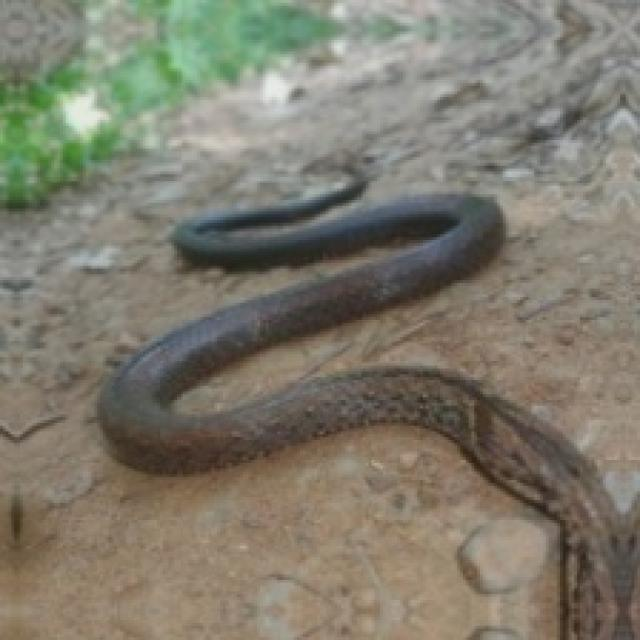reinhardts lined snake: (97, 177, 637, 637)
